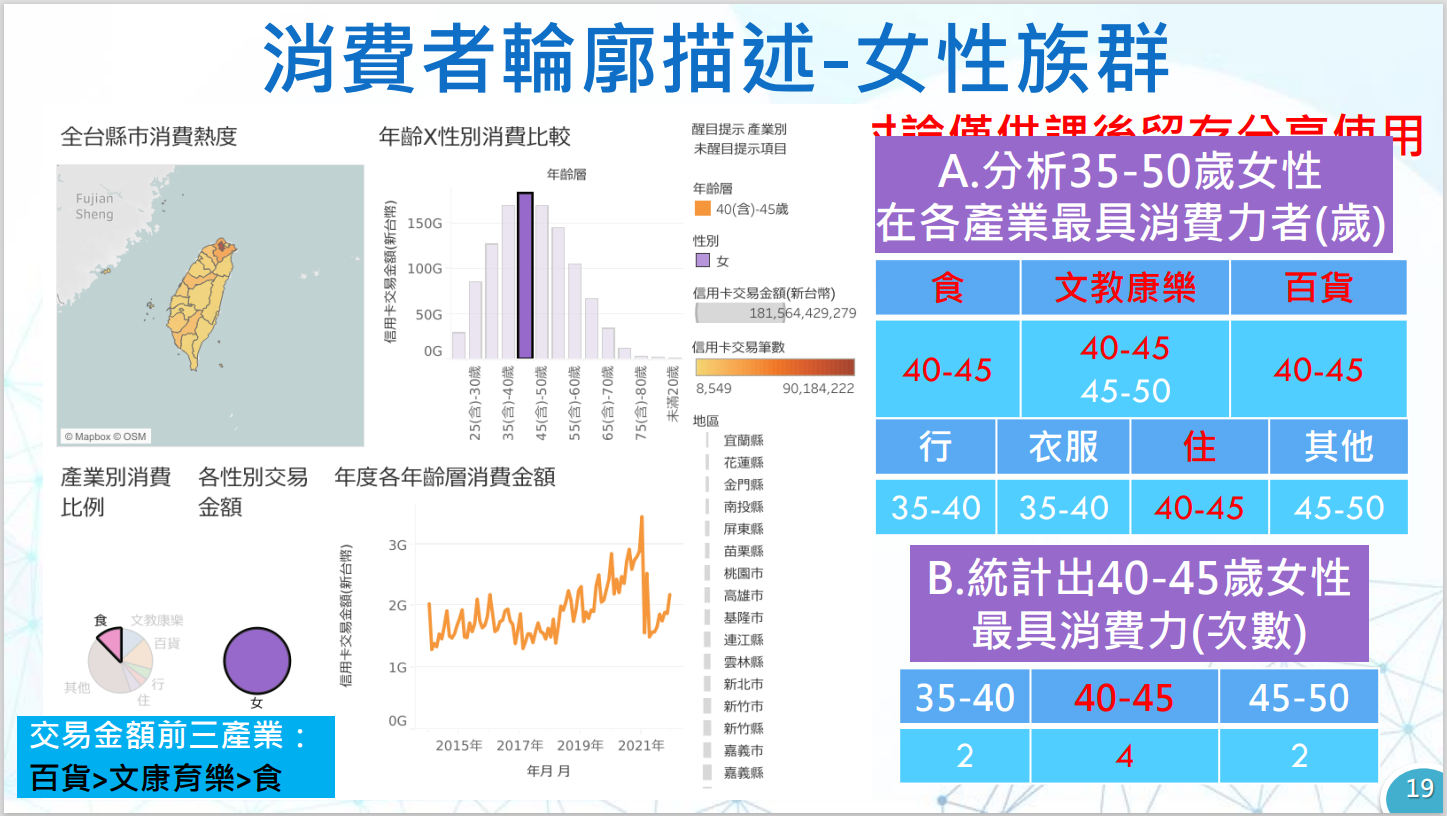

This screenshot's page, from the dashboard's own definition file:
{"tool":"tableau","page":{"name":"儀表板窗格 1","canvas":[1000,1000],"units":"permille","ordinal":0},"visuals":[{"type":"worksheet","title":"全台縣市消費熱度","mark":"Multipolygon","box":[4.8,9.4,446.9,490.6]},{"type":"worksheet","title":"年齡X性別消費比較","mark":"Automatic","rows":["信用卡交易金額(新台幣)"],"cols":["年齡層"],"box":[451.7,9.4,446.9,490.6]},{"type":"highlighter","title":"產業別消費比例","param":"[federated.0g2oetc1v2s88r16os5ns0wi0wuw].[none:產業別:nk]","box":[898.6,9.4,96.6,65.7]},{"type":"legend","title":"年度各年齡層消費金額","param":"[federated.0g2oetc1v2s88r16os5ns0wi0wuw].[none:年齡層:nk]","box":[898.6,75.1,96.6,342.7]},{"type":"legend","title":"年齡X性別消費比較","param":"[federated.0g2oetc1v2s88r16os5ns0wi0wuw].[none:性別:nk]","box":[898.6,417.8,96.6,84.5]},{"type":"worksheet","title":"產業別消費比例","mark":"Pie","box":[4.8,500,192.8,490.6]},{"type":"worksheet","title":"各性別交易金額","mark":"Pie","box":[197.6,500,192.2,490.6]},{"type":"worksheet","title":"年度各年齡層消費金額","mark":"Automatic","rows":["信用卡交易金額(新台幣)"],"cols":["年月"],"box":[389.8,500,508.8,490.6]},{"type":"legend","title":"各性別交易金額","param":"[federated.0g2oetc1v2s88r16os5ns0wi0wuw].[sum:信用卡交易金額(新台幣):qk]","box":[898.6,502.4,96.6,59.9]},{"type":"legend","title":"全台縣市消費熱度","param":"[federated.0g2oetc1v2s88r16os5ns0wi0wuw].[sum:信用卡交易金額(新台幣):qk]","box":[898.6,562.2,96.6,85.7]},{"type":"legend","title":"全台縣市消費熱度","param":"[federated.0g2oetc1v2s88r16os5ns0wi0wuw].[none:地區:nk]","box":[898.6,647.9,96.6,342.7]}]}

Visuals, with their boxes on the dashboard's canvas, which has no fixed pixel size, in thousandths of its width and height (x1, y1, x2, y2). These are canvas units, not pixel positions in the 1447x816 screenshot, which may show the page scaled, cropped or inside an application window:
"全台縣市消費熱度" worksheet (Multipolygon marks): (5, 9, 452, 500)
"年齡X性別消費比較" worksheet: (452, 9, 899, 500)
"產業別消費比例" highlighter: (899, 9, 995, 75)
"年度各年齡層消費金額" legend: (899, 75, 995, 418)
"年齡X性別消費比較" legend: (899, 418, 995, 502)
"產業別消費比例" worksheet (Pie marks): (5, 500, 198, 991)
"各性別交易金額" worksheet (Pie marks): (198, 500, 390, 991)
"年度各年齡層消費金額" worksheet: (390, 500, 899, 991)
"各性別交易金額" legend: (899, 502, 995, 562)
"全台縣市消費熱度" legend: (899, 562, 995, 648)
"全台縣市消費熱度" legend: (899, 648, 995, 991)
